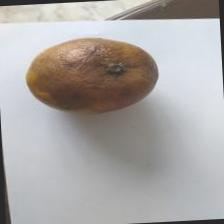Orange Rotten: (18, 26, 170, 128)
